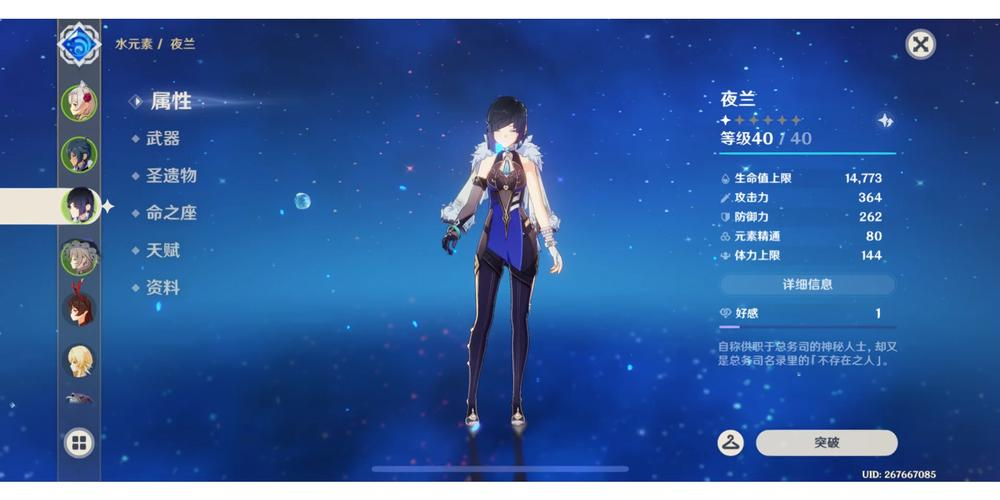夜兰: (437, 86, 570, 436)
